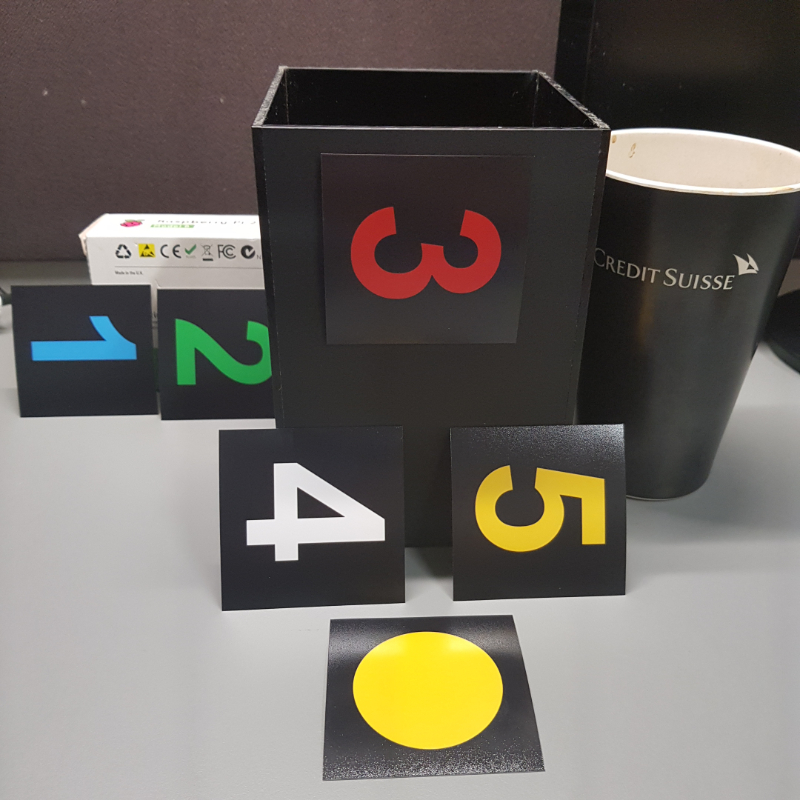Five-10: (458, 436, 622, 590)
Four-9: (227, 437, 400, 599)
One-6: (23, 290, 147, 409)
Stop-5: (338, 623, 513, 764)
Three-8: (333, 165, 511, 337)
